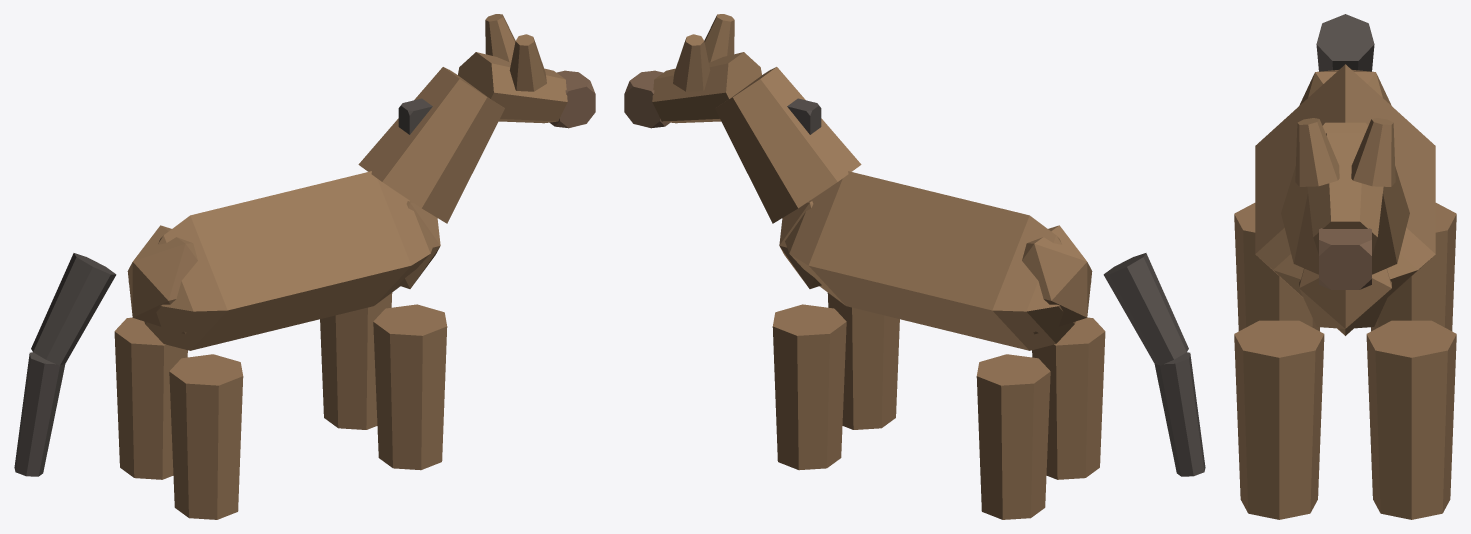
3 renders of one model, left to right at view 1: azimuth 30°, elevation 25°; view 2: azimuth 150°, elevation 25°; view 3: azimuth 270°, elevation 25°, orthographic. The views are drawn at different scales.
Parts seen in each view (by area): view 1: part0, part3, part10, part12, part11, part9, part13, part5, part2, part14, part6, part8 (+3 smaller); view 2: part0, part3, part9, part11, part12, part10, part13, part5, part2, part14, part6, part7 (+3 smaller); view 3: part9, part10, part0, part3, part11, part12, part5, part1, part6, part13, part7, part8 (+1 smaller).
Boxes of the visible parts, bbox=[...] form: part0: bbox=[128, 171, 434, 350]; part3: bbox=[358, 67, 504, 223]; part10: bbox=[373, 304, 447, 470]; part12: bbox=[169, 354, 243, 519]; part11: bbox=[114, 317, 187, 479]; part9: bbox=[320, 293, 392, 429]; part13: bbox=[31, 253, 116, 365]; part5: bbox=[458, 52, 567, 123]; part2: bbox=[127, 225, 197, 334]; part14: bbox=[14, 352, 65, 476]; part6: bbox=[550, 70, 595, 128]; part8: bbox=[509, 34, 546, 91]; part0: bbox=[785, 171, 1091, 350]; part3: bbox=[715, 67, 861, 223]; part9: bbox=[772, 304, 846, 470]; part11: bbox=[976, 354, 1050, 519]; part12: bbox=[1032, 317, 1105, 479]; part10: bbox=[827, 293, 899, 429]; part13: bbox=[1103, 253, 1188, 365]; part5: bbox=[652, 52, 761, 123]; part2: bbox=[1022, 225, 1092, 334]; part14: bbox=[1154, 352, 1205, 476]; part6: bbox=[624, 70, 669, 128]; part7: bbox=[673, 34, 710, 91]; part9: bbox=[1366, 320, 1456, 519]; part10: bbox=[1234, 320, 1324, 519]; part0: bbox=[1255, 64, 1435, 335]; part3: bbox=[1281, 122, 1409, 274]; part11: bbox=[1371, 203, 1456, 331]; part12: bbox=[1234, 203, 1319, 331]; part5: bbox=[1307, 133, 1383, 254]; part1: bbox=[1299, 268, 1391, 328]; part6: bbox=[1319, 228, 1371, 289]; part13: bbox=[1316, 14, 1374, 71]; part7: bbox=[1351, 118, 1395, 186]; part8: bbox=[1295, 118, 1339, 186].
Size of the model in its own units: 4.8 by 3.06 by 1.35.
